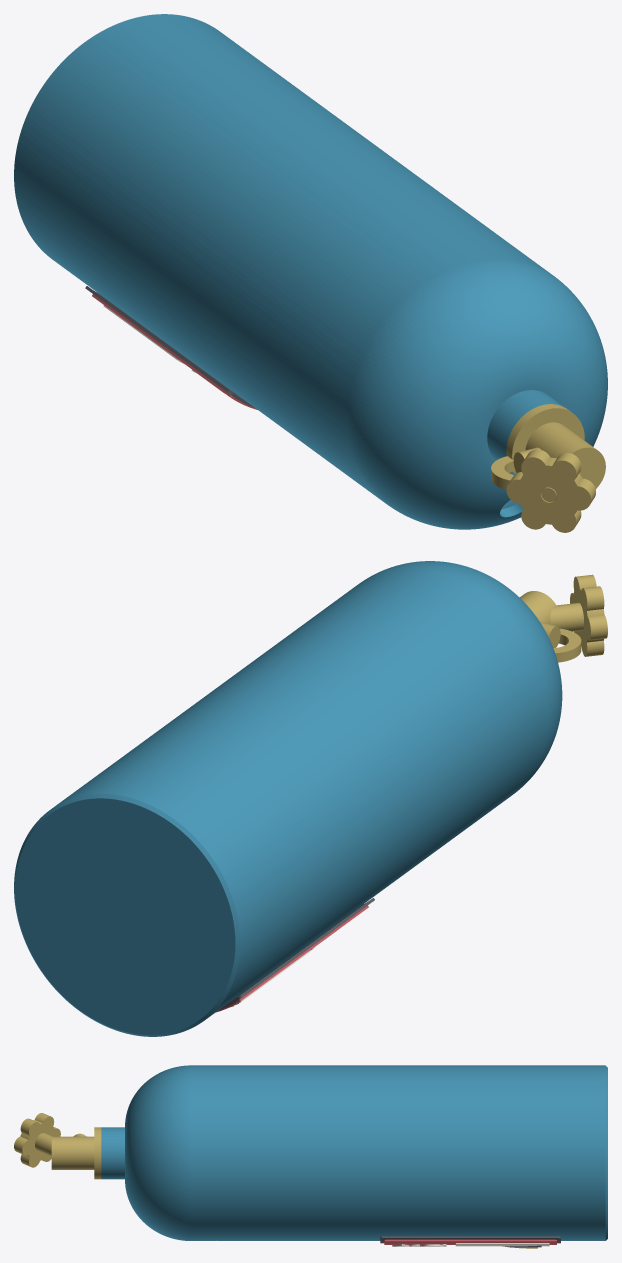
The model's file is nos-500ml.glb.
The picture shows the model from 3 angles, top to bottom: view 1: azimuth 30°, elevation 25°; view 2: azimuth 150°, elevation 25°; view 3: azimuth 270°, elevation 25°; orthographic projection. The views are drawn at different scales.
Parts seen in each view (by area): view 1: 01_BASE_BLEUE, 02_COQUE_HAUTE_BLEUE, 03_VANNE_DOREE, 04_MOLETTE_DOREE, 06_FOND_ETIQUETTE_NOIR; view 2: 01_BASE_BLEUE, 02_COQUE_HAUTE_BLEUE, 03_VANNE_DOREE, 04_MOLETTE_DOREE, 06_FOND_ETIQUETTE_NOIR; view 3: 01_BASE_BLEUE, 02_COQUE_HAUTE_BLEUE, 03_VANNE_DOREE, 04_MOLETTE_DOREE, 07_PLAQUE_ETIQUETTE_ROUGE, 06_FOND_ETIQUETTE_NOIR, 08_ZONE_BLANCHE_DANGER.
Boxes of the visible parts, left/top/right/bottom form: 01_BASE_BLEUE: left=14, top=14, right=529, bottom=487; 02_COQUE_HAUTE_BLEUE: left=328, top=244, right=607, bottom=529; 03_VANNE_DOREE: left=491, top=404, right=605, bottom=501; 04_MOLETTE_DOREE: left=506, top=449, right=595, bottom=532; 06_FOND_ETIQUETTE_NOIR: left=85, top=286, right=254, bottom=407; 01_BASE_BLEUE: left=14, top=581, right=530, bottom=1036; 02_COQUE_HAUTE_BLEUE: left=344, top=561, right=562, bottom=804; 03_VANNE_DOREE: left=520, top=591, right=583, bottom=662; 04_MOLETTE_DOREE: left=570, top=574, right=607, bottom=656; 06_FOND_ETIQUETTE_NOIR: left=218, top=898, right=374, bottom=1010; 01_BASE_BLEUE: left=215, top=1065, right=607, bottom=1240; 02_COQUE_HAUTE_BLEUE: left=101, top=1065, right=214, bottom=1240; 03_VANNE_DOREE: left=35, top=1127, right=101, bottom=1179; 04_MOLETTE_DOREE: left=14, top=1113, right=60, bottom=1167; 07_PLAQUE_ETIQUETTE_ROUGE: left=384, top=1239, right=556, bottom=1244; 06_FOND_ETIQUETTE_NOIR: left=380, top=1236, right=560, bottom=1243; 08_ZONE_BLANCHE_DANGER: left=455, top=1243, right=549, bottom=1246.
Bounding box in the file's own units: 74.2 × 78 × 251.
